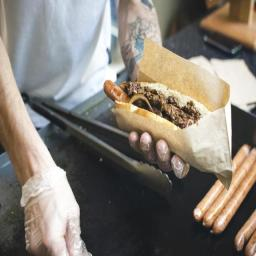hotdog: (102, 76, 220, 130)
